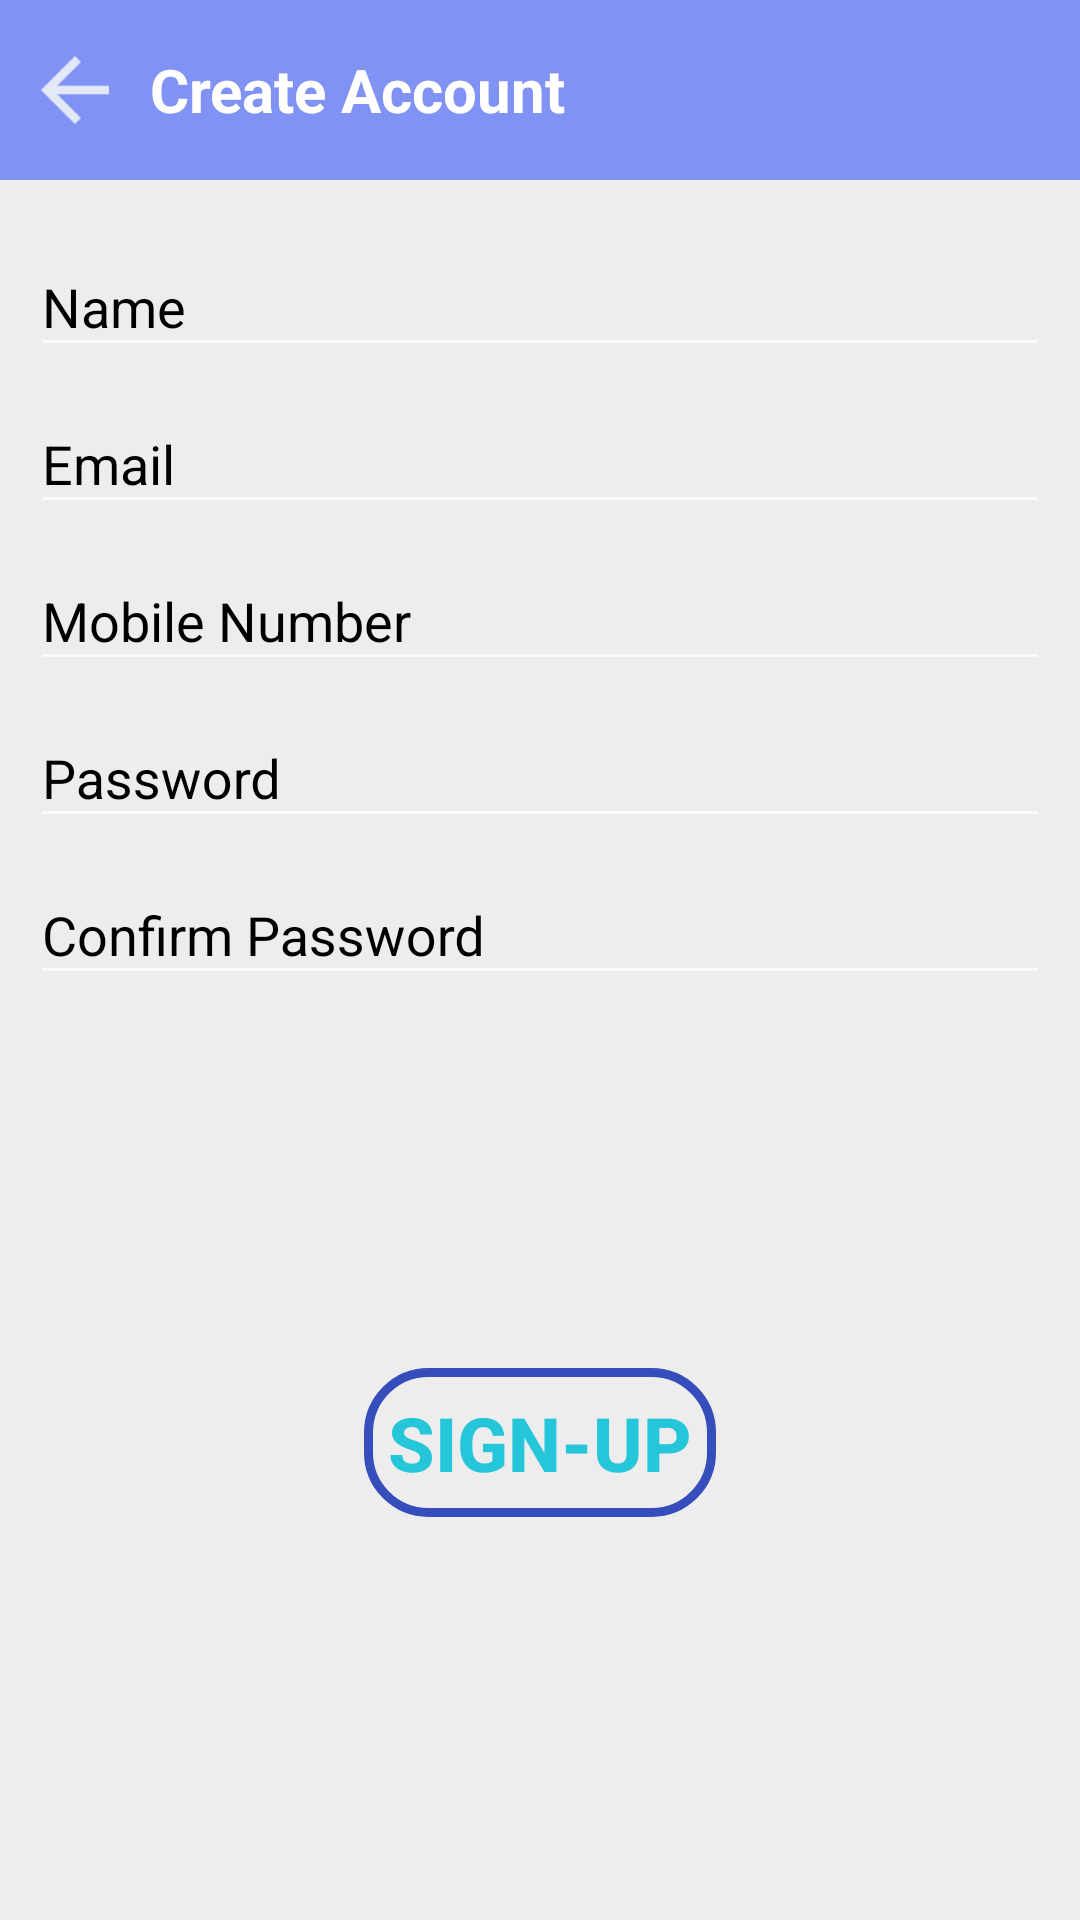

Icon click points for this 1080w x 1920h phone screenshot, format (x=x, y=y):
arroww: (x=75, y=90)
